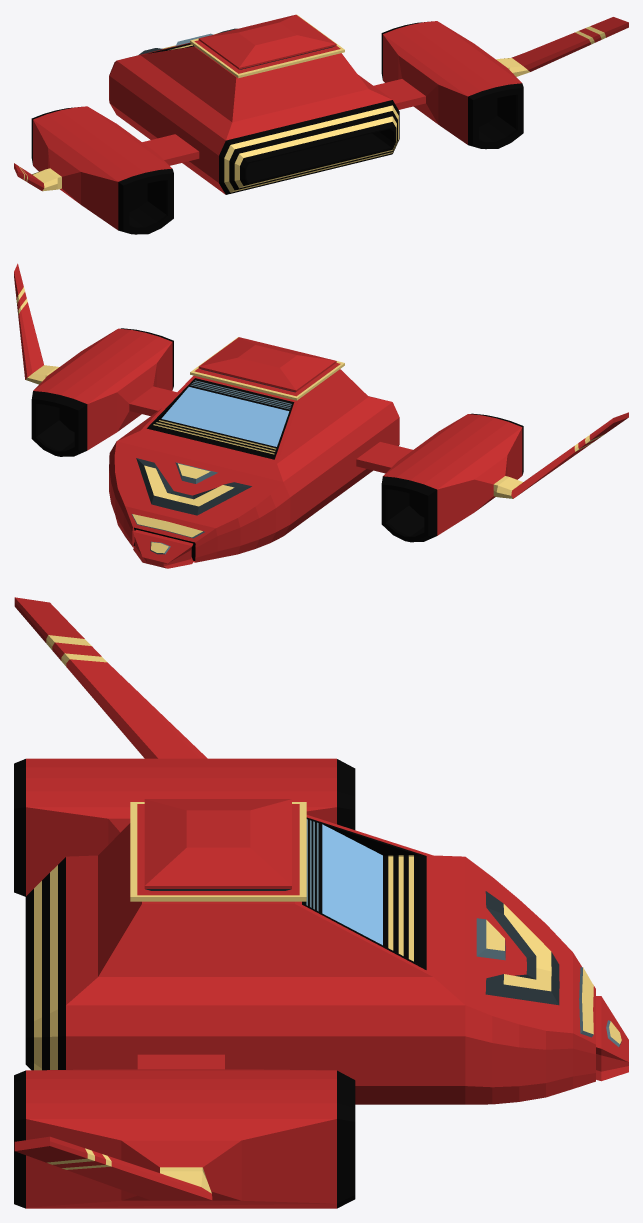
File: LowPoly1.fbx
The picture shows the model from 3 angles, top to bottom: view 1: azimuth 30°, elevation 25°; view 2: azimuth 150°, elevation 25°; view 3: azimuth 270°, elevation 25°; orthographic projection. The views are drawn at different scales.
Visible parts, largest first — view 1: LowPolyPlane1; view 2: LowPolyPlane1; view 3: LowPolyPlane1.
Part boxes in pixels (bbox=[...]): LowPolyPlane1: bbox=[14, 14, 628, 234]; LowPolyPlane1: bbox=[14, 263, 628, 568]; LowPolyPlane1: bbox=[14, 597, 628, 1208].
Bounding box in the file's own units: 408 × 81.05 × 195.
